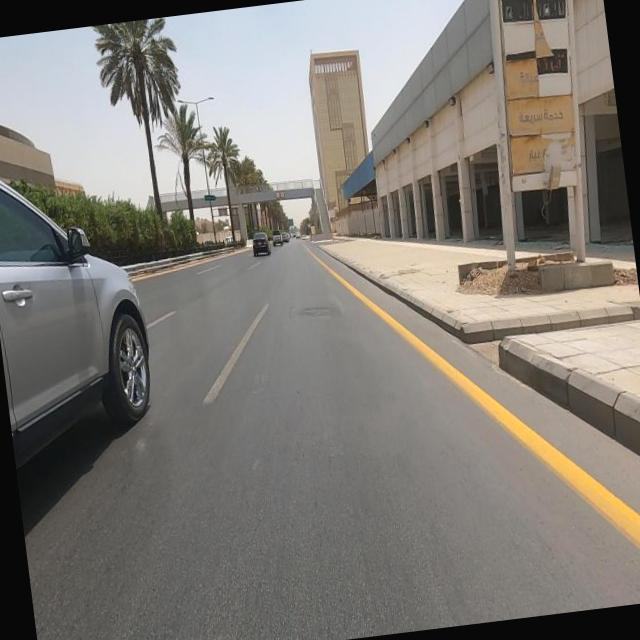debris: (438, 0, 639, 313)
